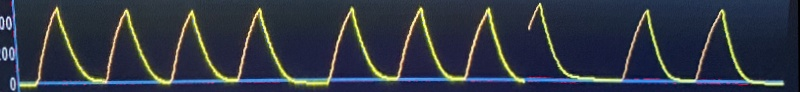normal_volume: (23, 0, 781, 92)
